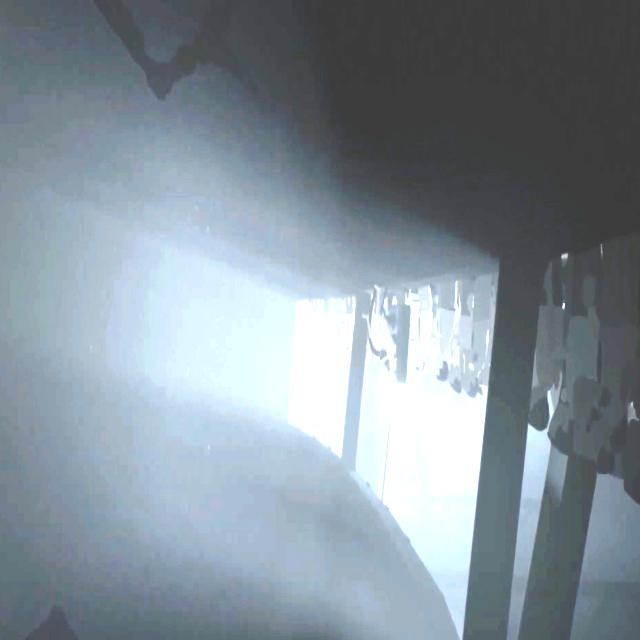boy: (362, 283, 397, 375)
human: (588, 240, 627, 477), (527, 254, 563, 431), (464, 279, 493, 398), (449, 278, 474, 394), (436, 282, 454, 382), (414, 288, 433, 378), (321, 300, 332, 358), (309, 300, 319, 350), (334, 299, 342, 358), (344, 296, 352, 354)
interactible: (368, 282, 410, 386)
mechanism: (90, 0, 247, 96), (11, 612, 74, 640)
